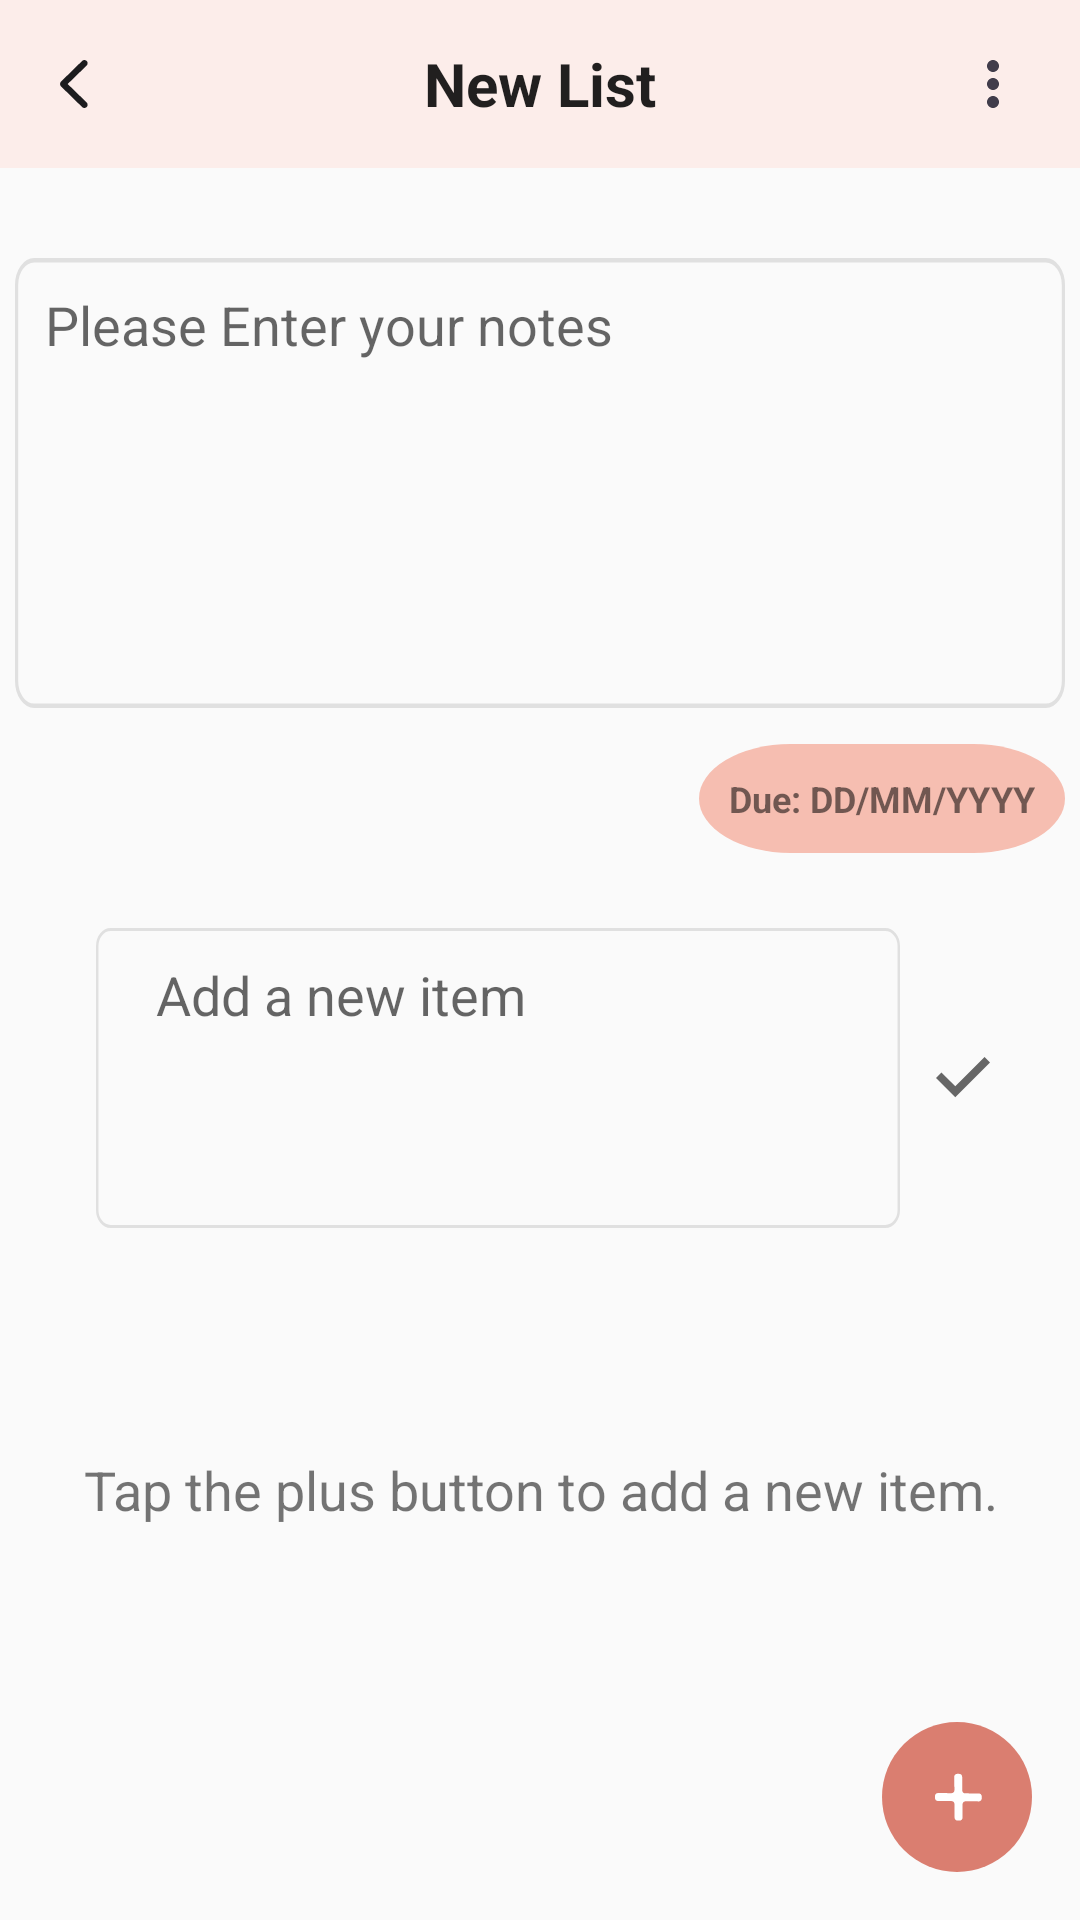

Named icons in this screenshot (1080 × 1920) and their bounding boxes, (x1, y1, x2, y2):
list add commit: (936, 1057, 990, 1097)
list detail back: (60, 60, 88, 108)
list detail options: (987, 60, 999, 108)
